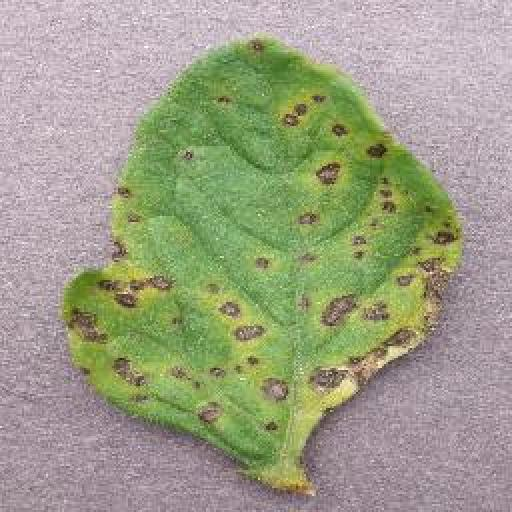disease_tomato: (60, 34, 464, 492)
